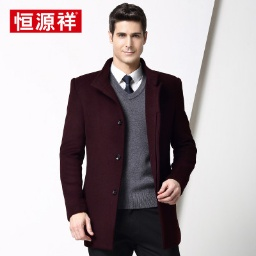face: (108, 2, 148, 63)
